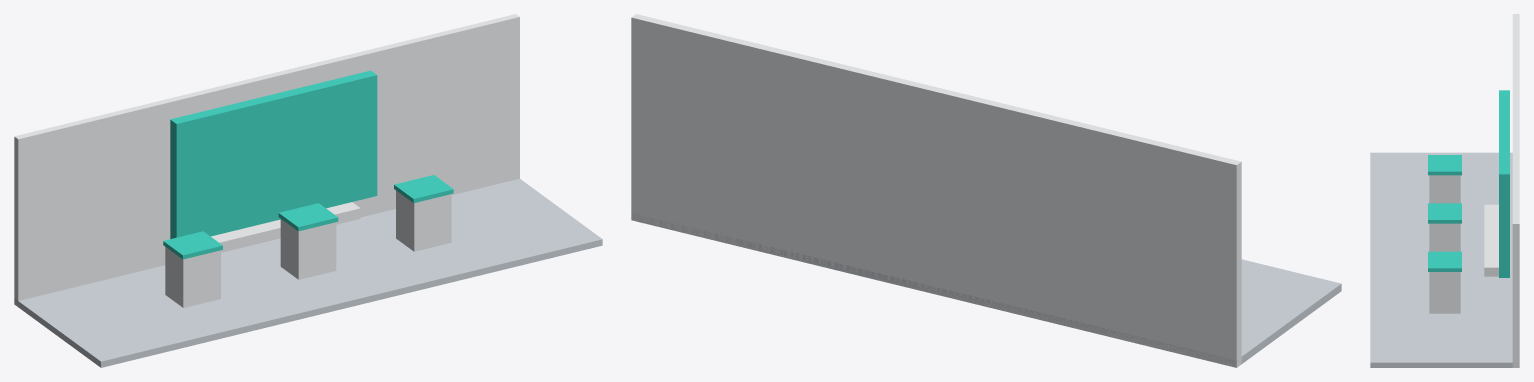
3 views of the same model, side by side, from view 1: azimuth 30°, elevation 25°; view 2: azimuth 150°, elevation 25°; view 3: azimuth 270°, elevation 25° (orthographic). The views are drawn at different scales.
Visible parts, largest first — view 1: Exhibition Booth Concept; view 2: Exhibition Booth Concept; view 3: Exhibition Booth Concept.
Part boxes in pixels (box(x1,y1,x2,y2)): Exhibition Booth Concept: box(14, 14, 602, 367); Exhibition Booth Concept: box(631, 14, 1341, 367); Exhibition Booth Concept: box(1370, 14, 1519, 367).
Bounding box in the file's own units: 10 × 3.2 × 3.
